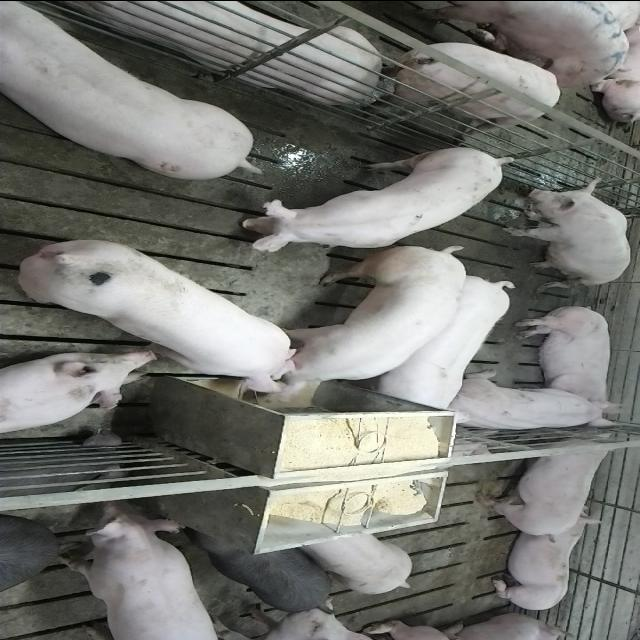Feeding: (15, 236, 303, 400), (251, 247, 471, 410)
Lateral_lying: (513, 301, 627, 426)
Sitting: (502, 174, 632, 286)
Standing: (0, 0, 257, 176), (230, 142, 512, 248), (61, 506, 228, 639), (364, 32, 566, 134), (371, 273, 518, 413), (407, 0, 640, 88), (473, 435, 618, 539), (184, 530, 336, 612), (301, 530, 413, 594), (2, 518, 68, 598)
Sternal_lying: (34, 0, 382, 100), (0, 350, 156, 436), (486, 516, 604, 612), (444, 374, 616, 434)
